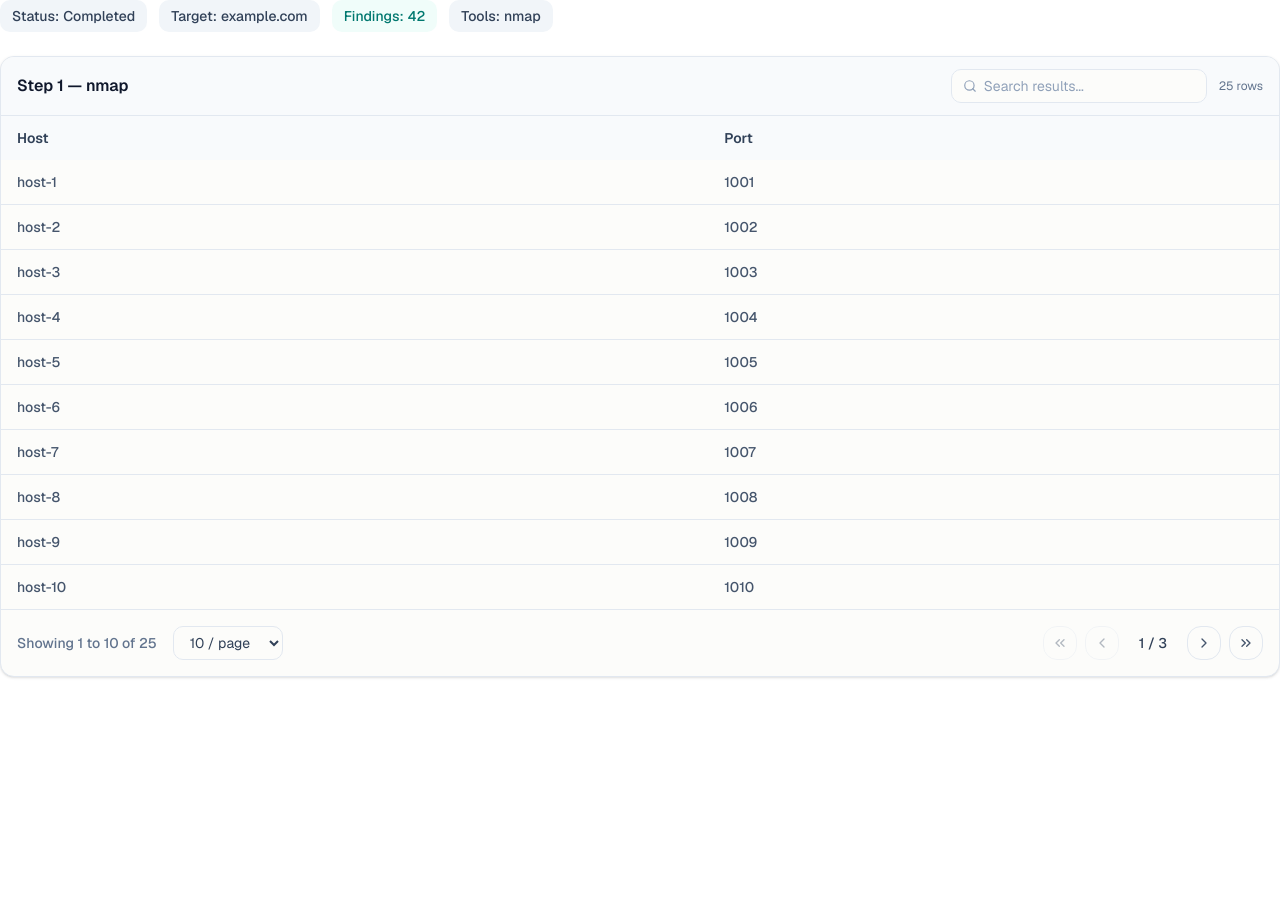
Test case: ScanResultsView — search debounce (Req 6.1, 6.2) › debounces input by 300ms and issues a single request resetting to page 1
The image size is (1280, 900).
// Staged typing collapses to a single debounced request.
In the field with placeholder "Search results...": (1079, 86) x1=951 y1=69 x2=1207 y2=103, type "h"
Wait 100 ms
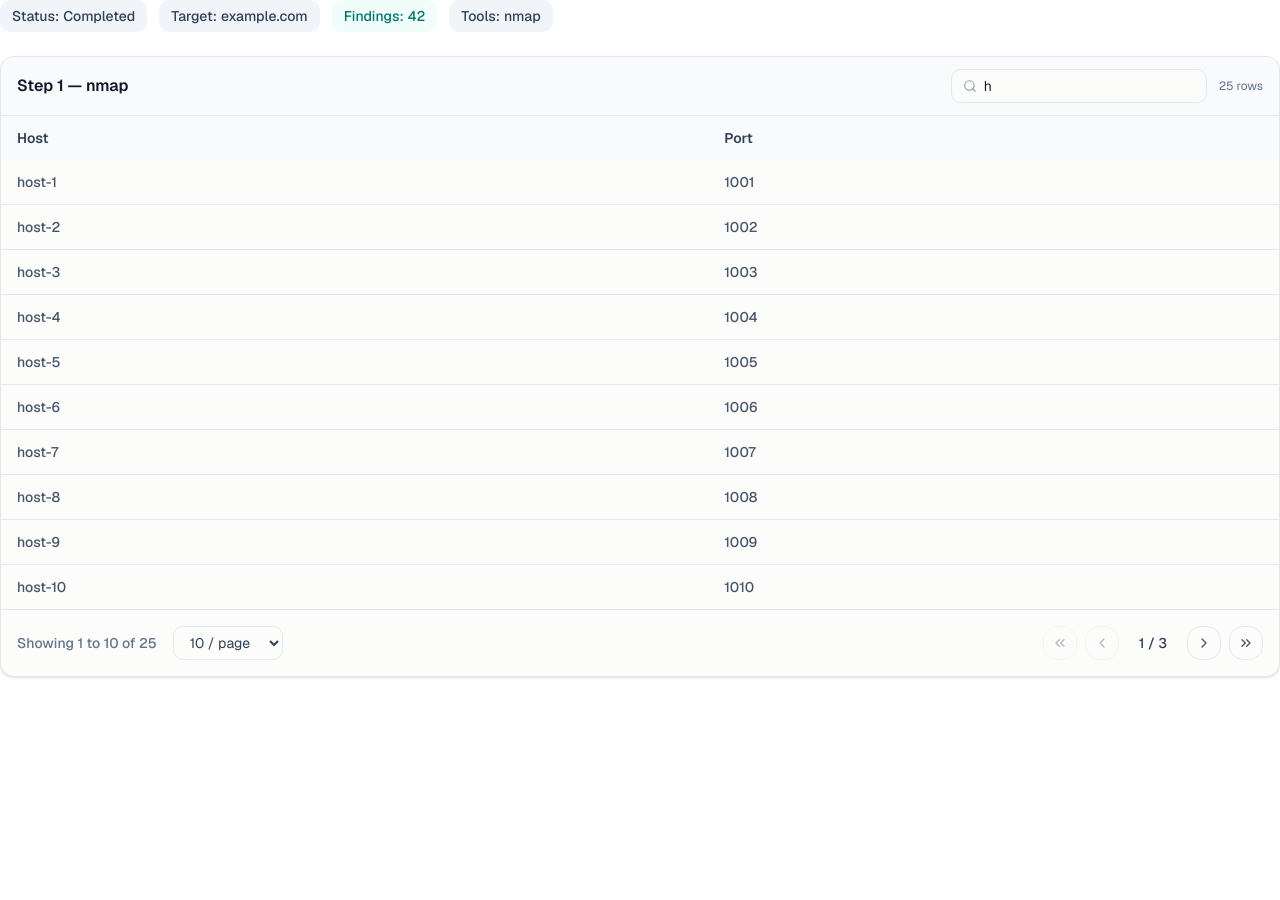
Replace the text in the field with placeholder "Search results..." with "ho": (1079, 86) x1=951 y1=69 x2=1207 y2=103
Wait 100 ms
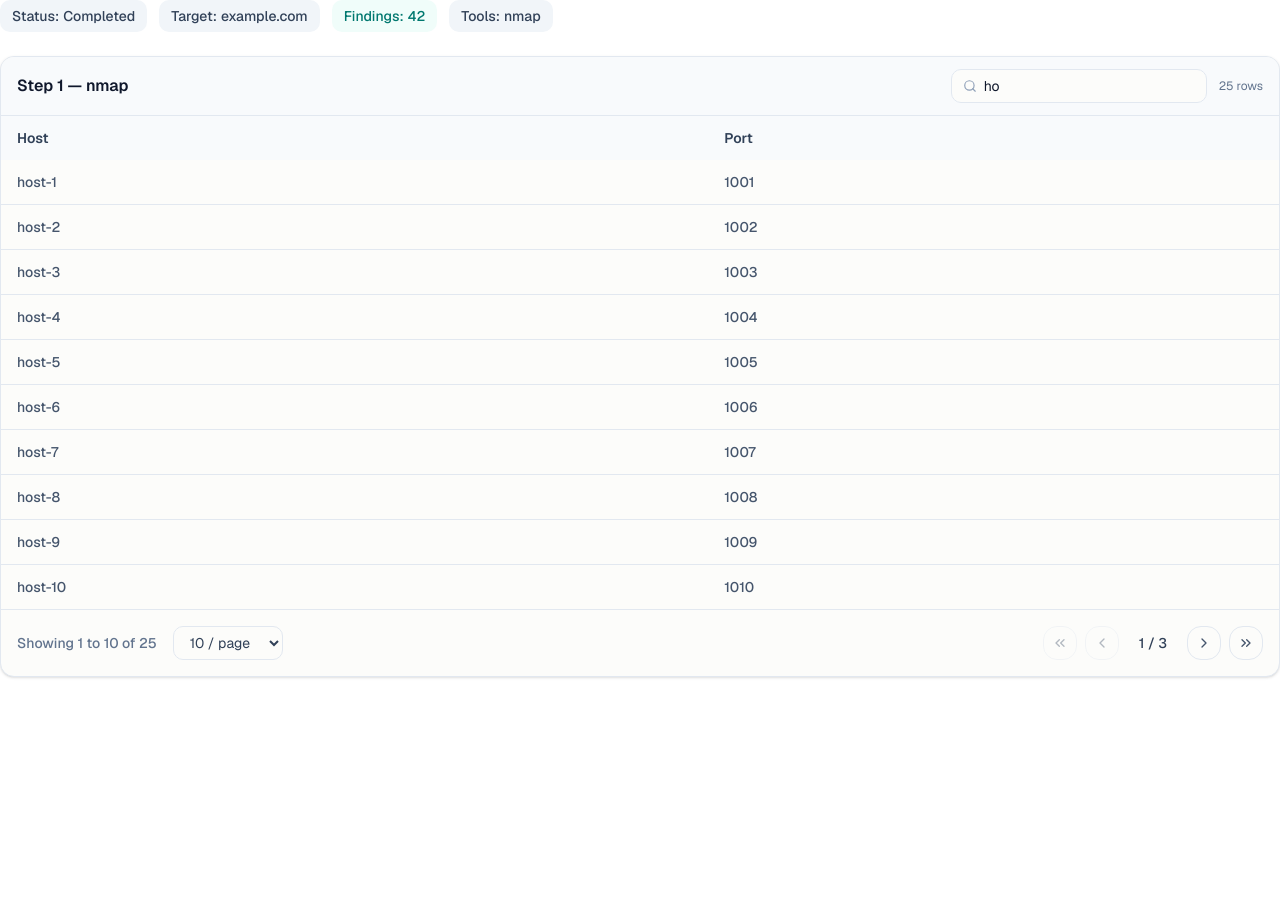
Replace the text in the field with placeholder "Search results..." with "host-13": (1079, 86) x1=951 y1=69 x2=1207 y2=103
Wait 300 ms
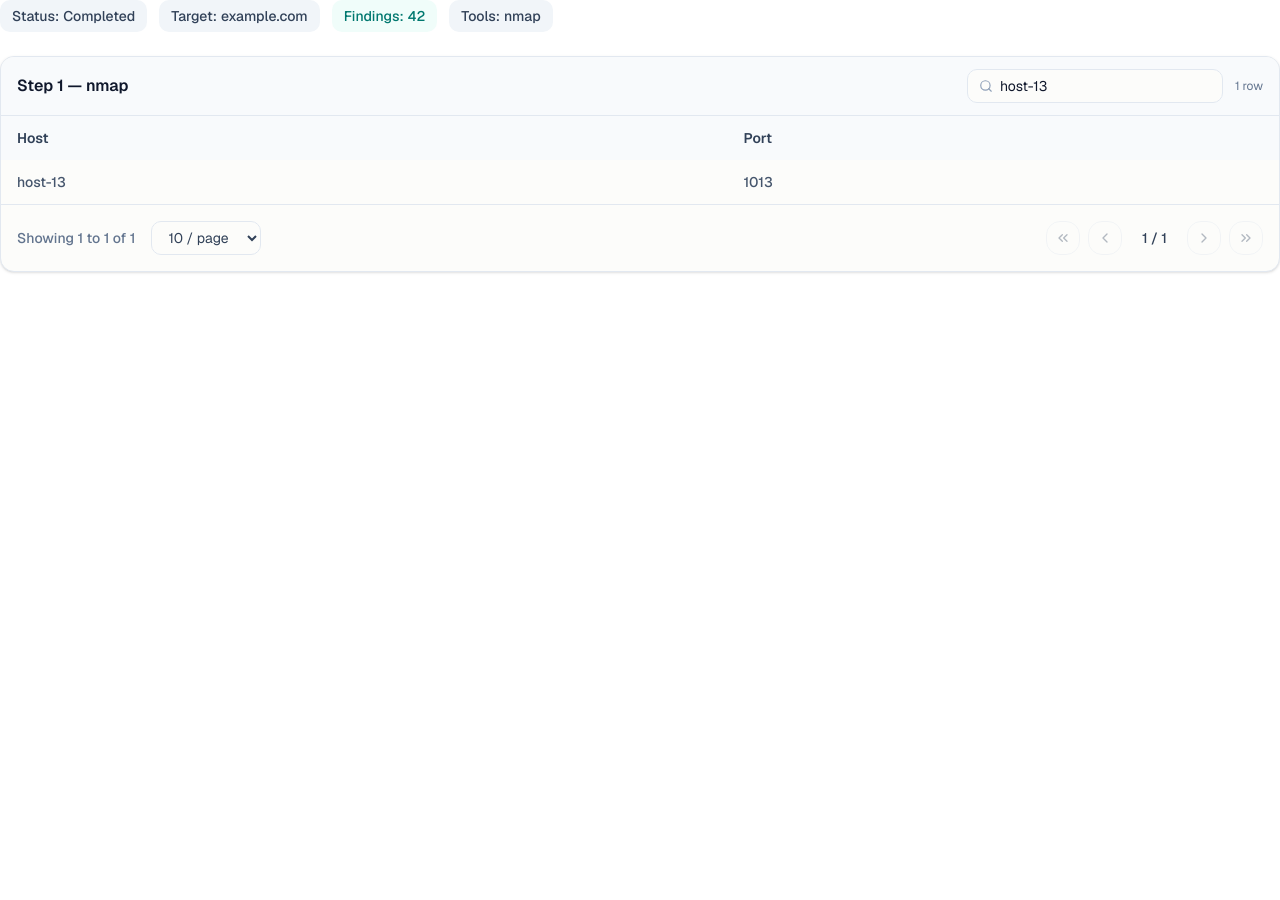
Check: the cell "host-13" is shown, box x1=1 y1=160 x2=728 y2=204
